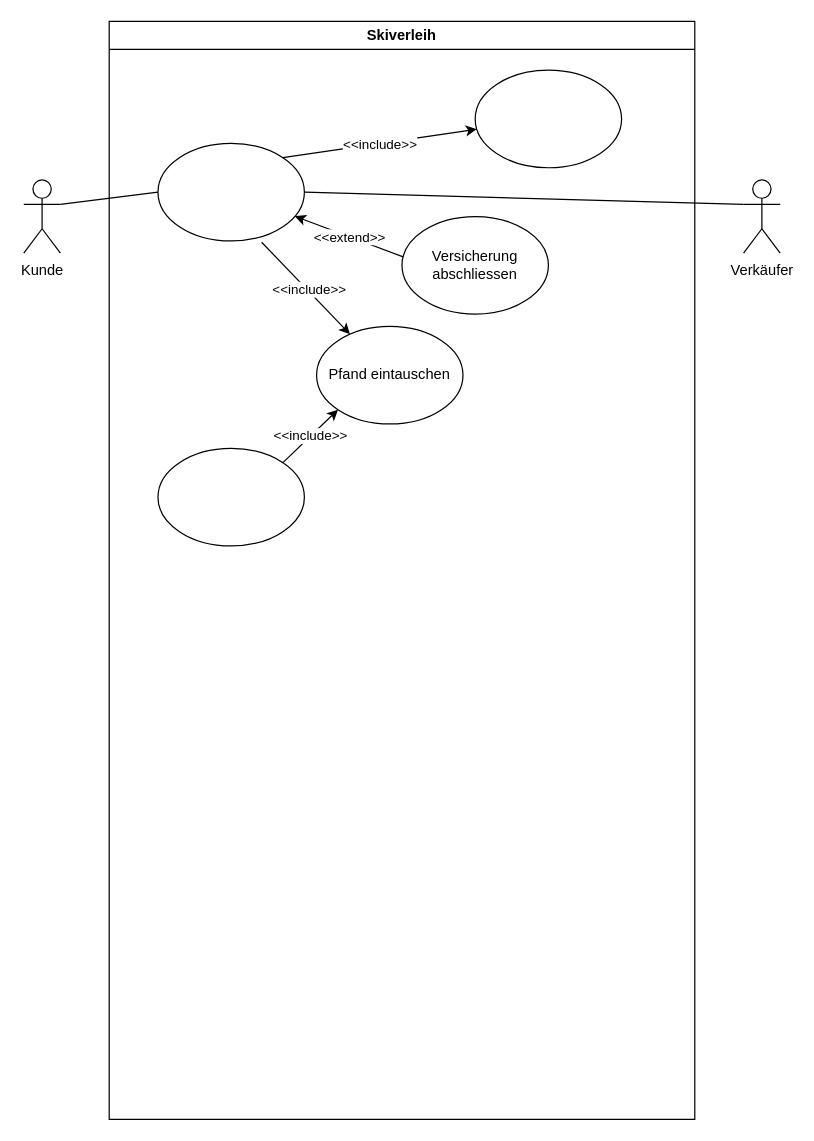
This 814x1141 diagram has some shape labels left out. The shapes that lost their labels are listed below. From the top down, each one's centre as x and y in pixels, then its label:
At point 548,118: "Lager prüfen".
At point 230,191: "Ausrüstung ausleihen".
At point 230,496: "Ausrüstung zurückgeben".
